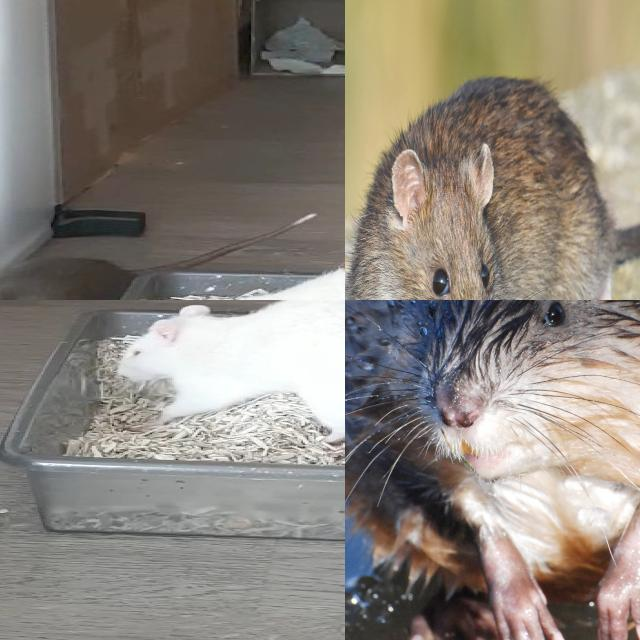rat: (345, 300, 640, 634), (345, 76, 618, 300), (107, 300, 345, 437), (0, 255, 129, 300)
